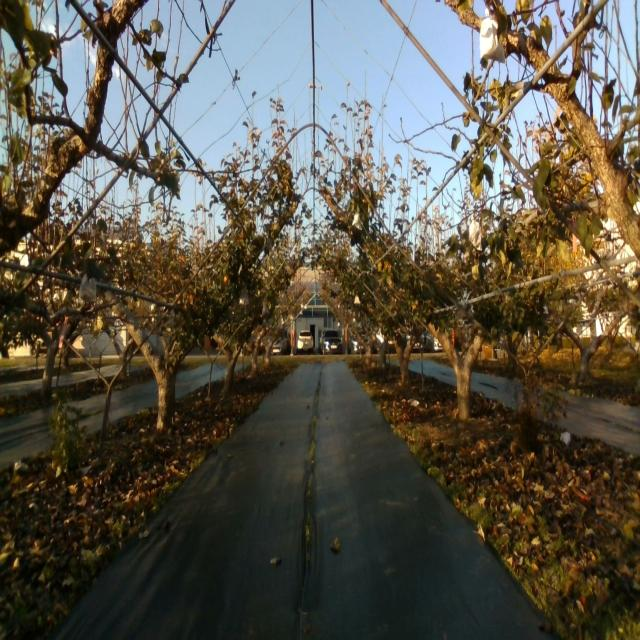pearbags: (480, 7, 506, 65), (79, 274, 98, 304), (468, 219, 482, 252)
